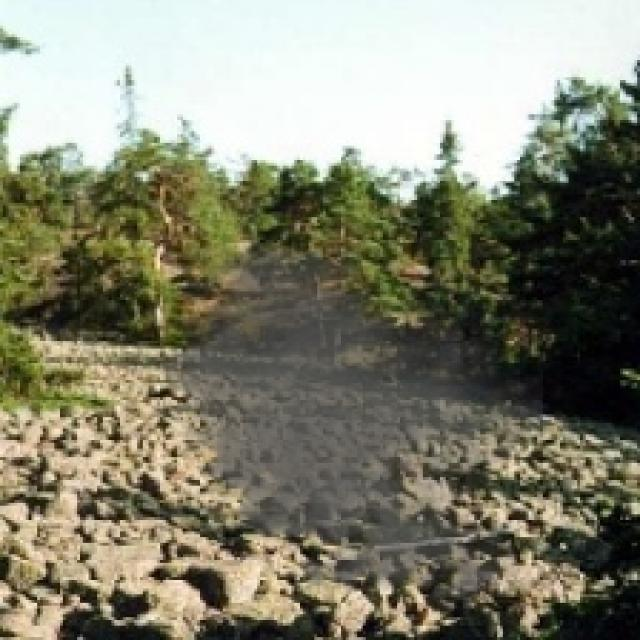smoke: (146, 237, 543, 614)
